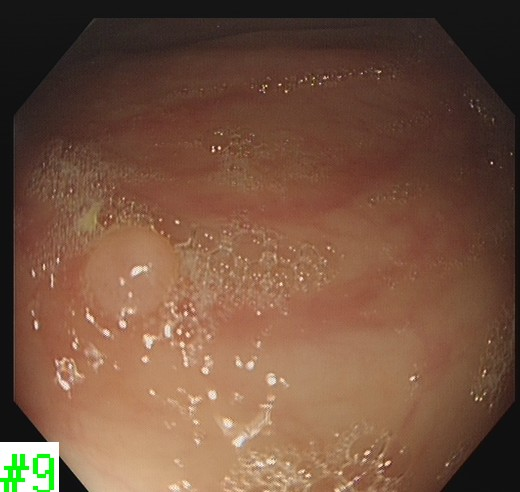adenoma: (80, 223, 182, 327)
